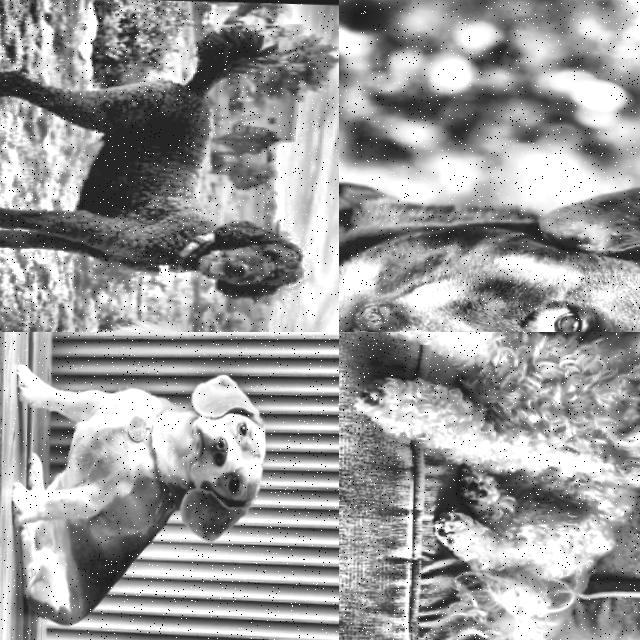beagle: (151, 341, 280, 559)
poodle: (150, 189, 339, 320), (564, 332, 640, 507)
rottweiler: (339, 142, 640, 332)
